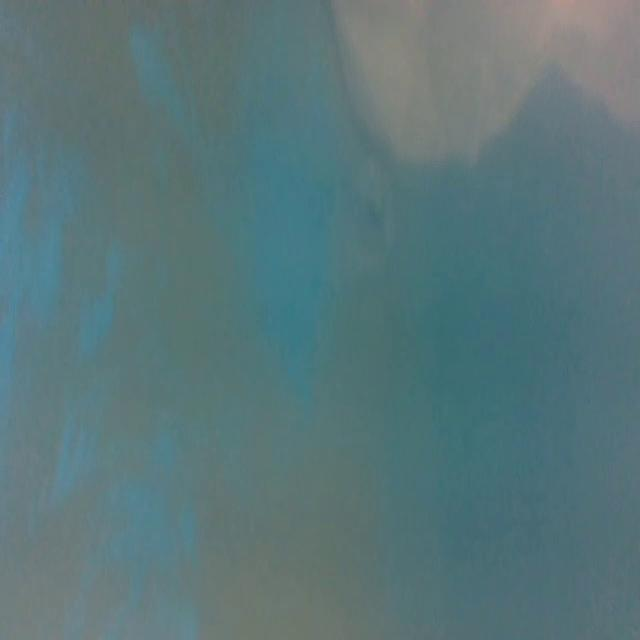plastic bags: (324, 2, 640, 166)
